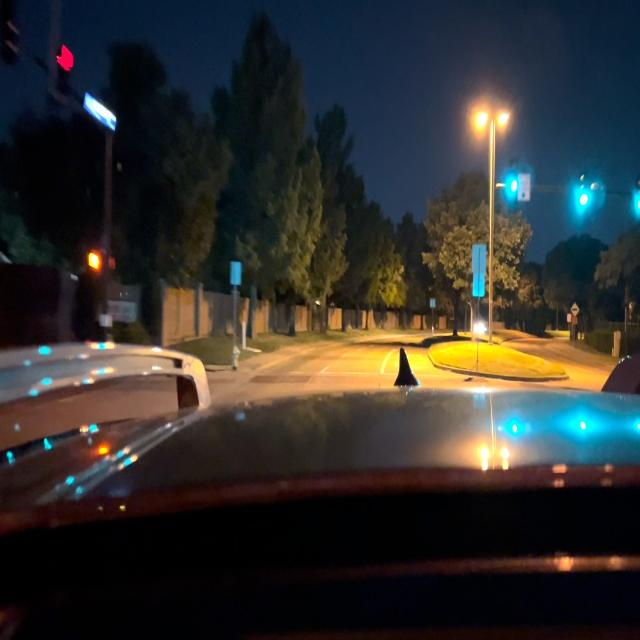back-of-sign: (474, 243, 487, 296), (231, 260, 242, 287)
